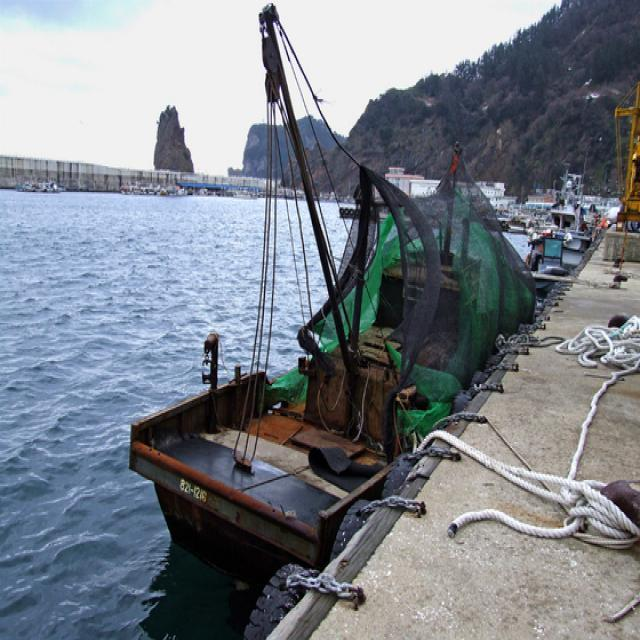Ship: (108, 156, 549, 574)
